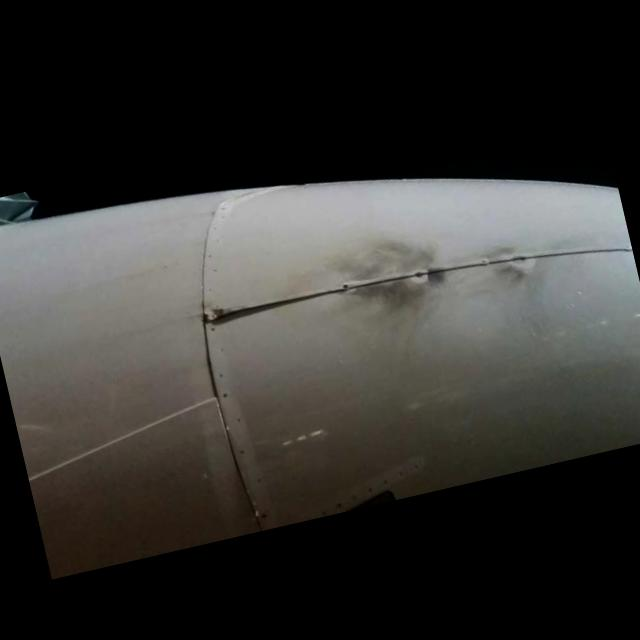dent: (323, 225, 445, 330), (482, 237, 540, 286)
